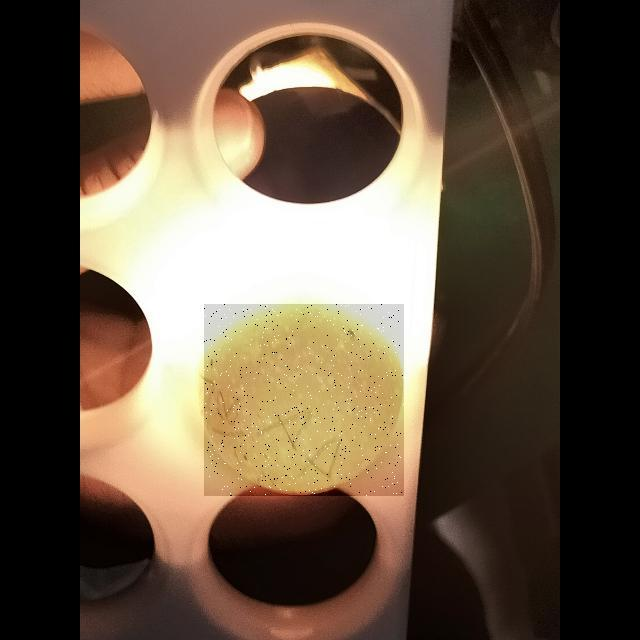Infertile: (204, 304, 404, 496)
